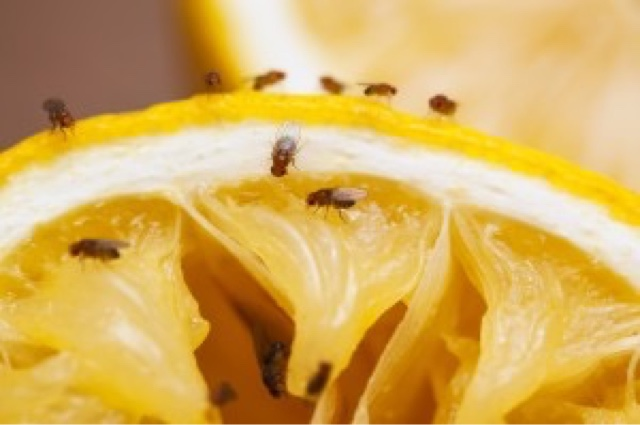phorid fly: (33, 81, 98, 147), (302, 175, 373, 224), (261, 120, 312, 185), (60, 234, 138, 272)
